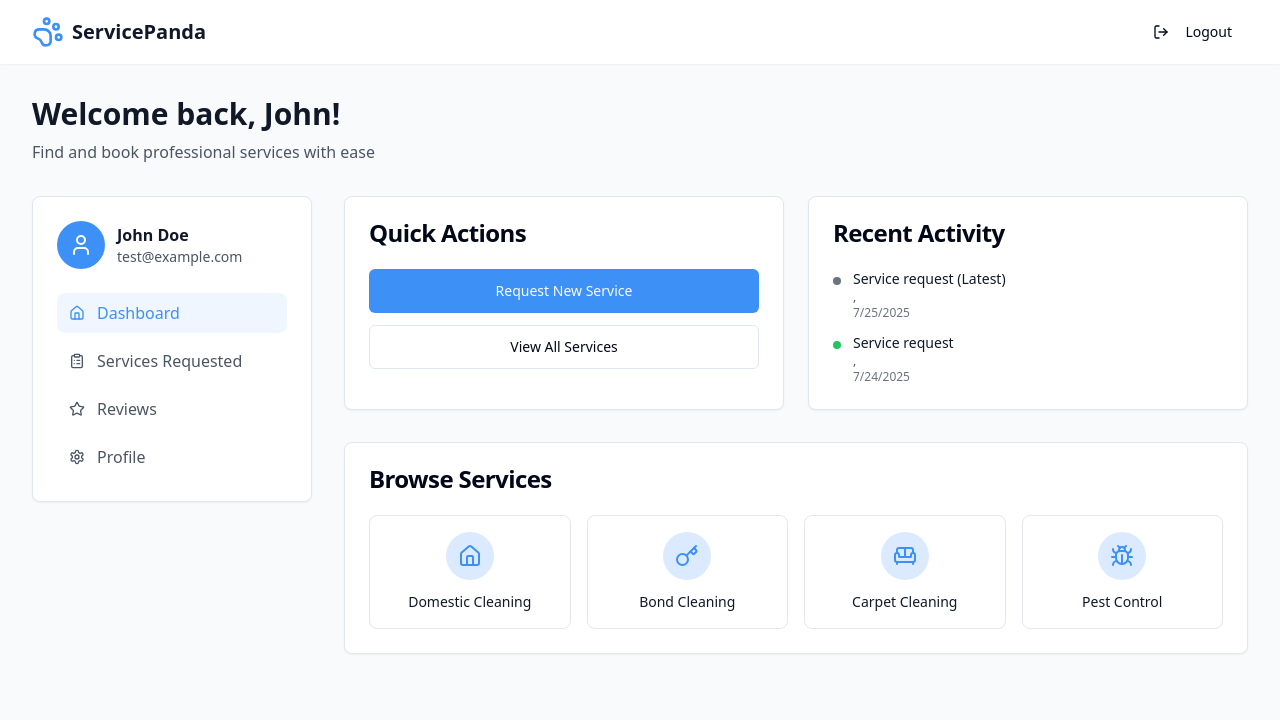
Scenario: CustomerDashboard › Accessibility › should have proper ARIA labels and roles
Expected: the button "Dashboard" is shown, [57,293,287,333]
Expected: the button "Logout" is shown, [1137,12,1248,52]
Check for form inputs when on profile tab
Click the button "Profile".
click(172, 457)  # box [57,437,287,477]
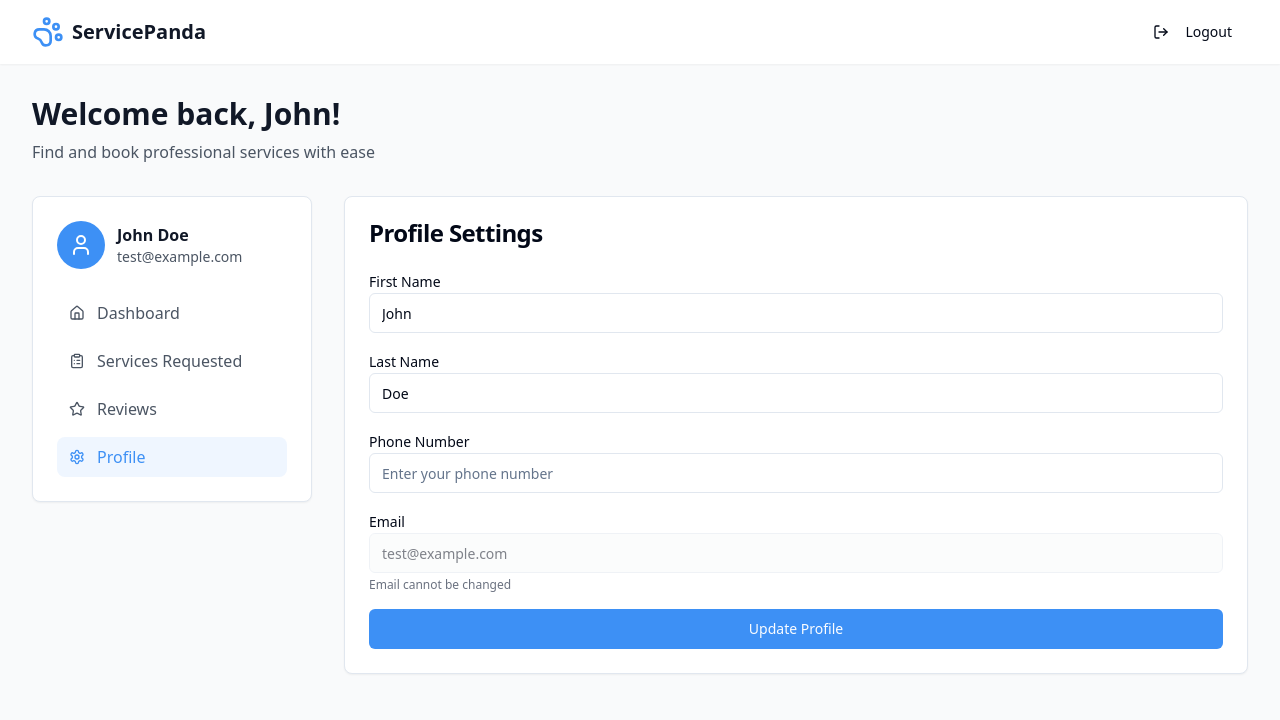
Expected: the field labelled "First Name" is shown, [369,293,1223,333]
Expected: the field labelled "Last Name" is shown, [369,373,1223,413]
